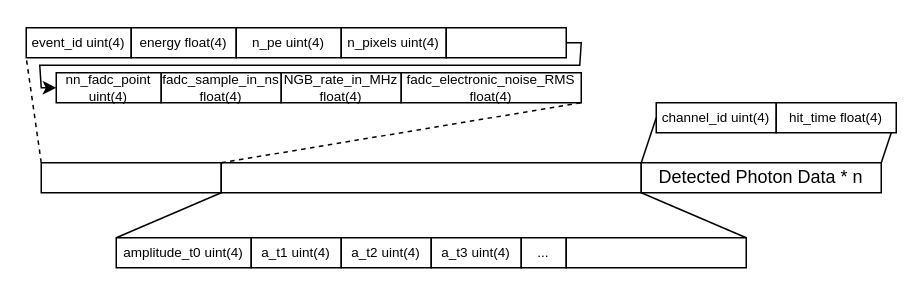
The diagram is 924 pixels wide and 294 high, and some of its shapes have lost their labels. The shapes that lost their labels are listed below. From the top down, each one's centre as x and y in pixels, then its label:
At point 505,42: "nn_PMT_channels uint(4)".
At point 130,177: "File Header".
At point 430,177: "Digitised Waveform * nn_PMT_channels".
At point 655,252: "a_t{nn_fadc_point -1} uint(4)".
